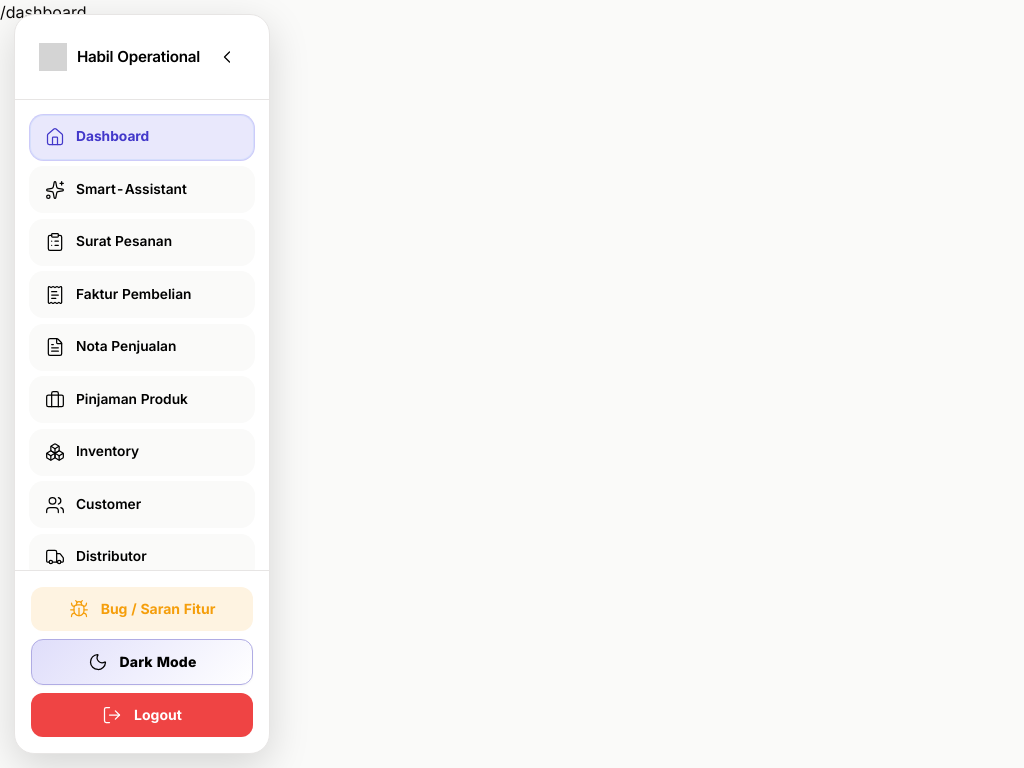
Sidebar shell smoke › opens the bug report as a keyboard-dismissible dialog
The width and height of the screenshot is (1024, 768).
Click the button "Bug / Saran Fitur".
click(142, 609)  # box [31, 587, 253, 631]
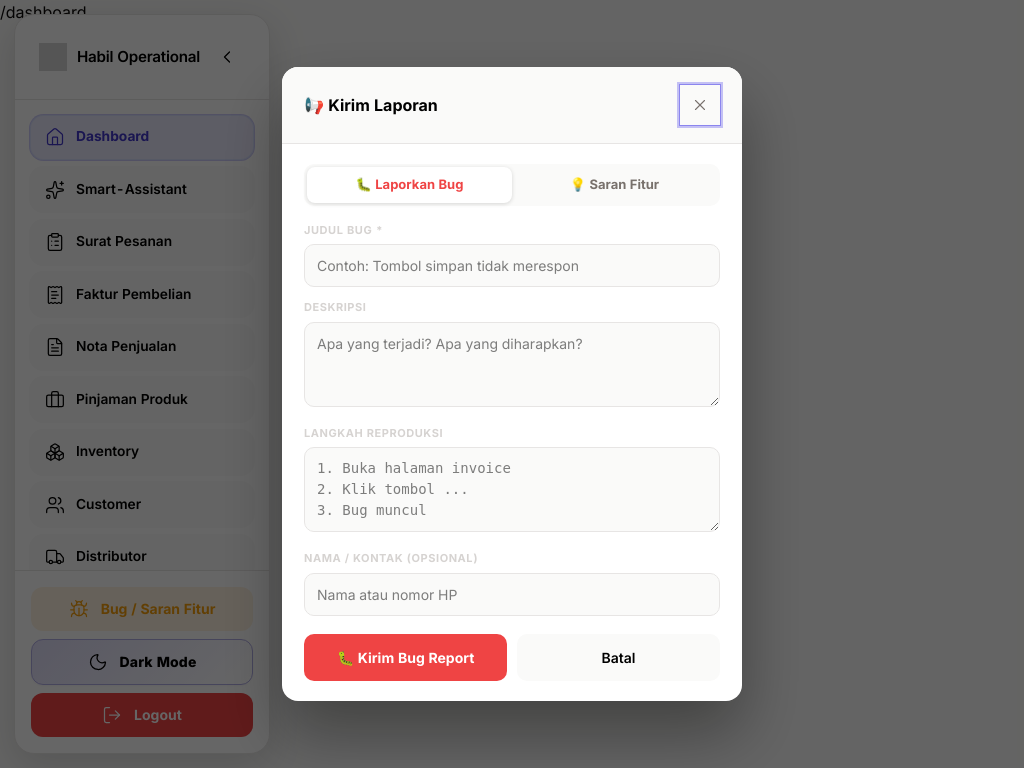
Check: the dialog "📢 Kirim Laporan" is shown, box [282, 67, 742, 701]
Press Escape
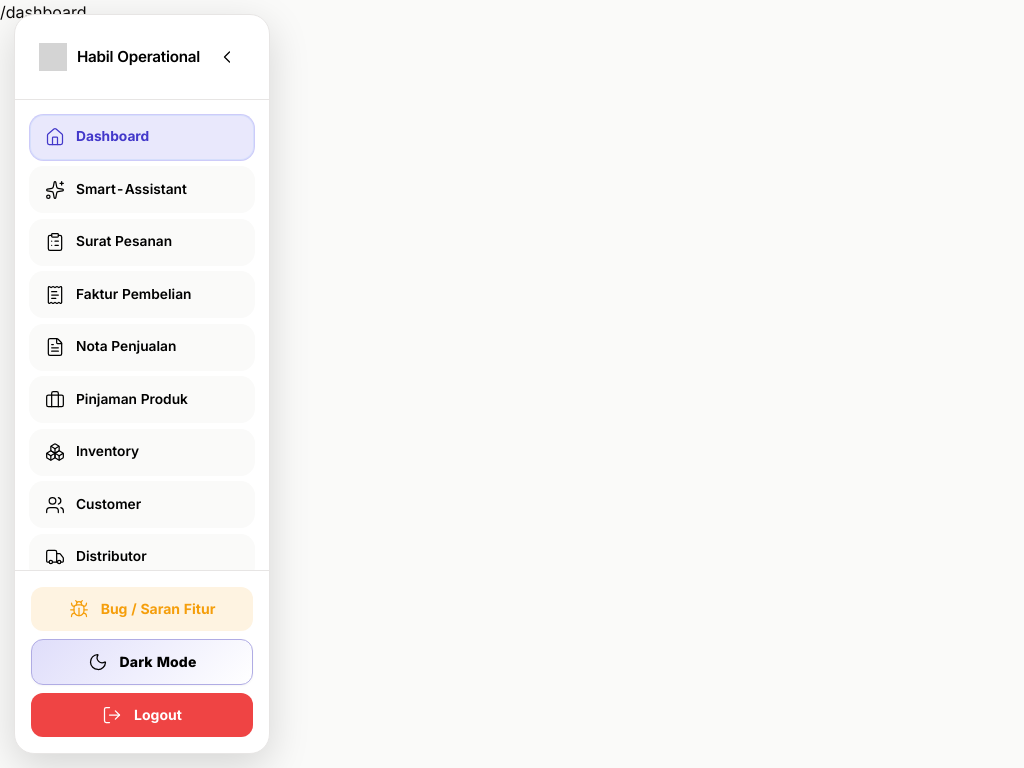
Check: the dialog is gone
